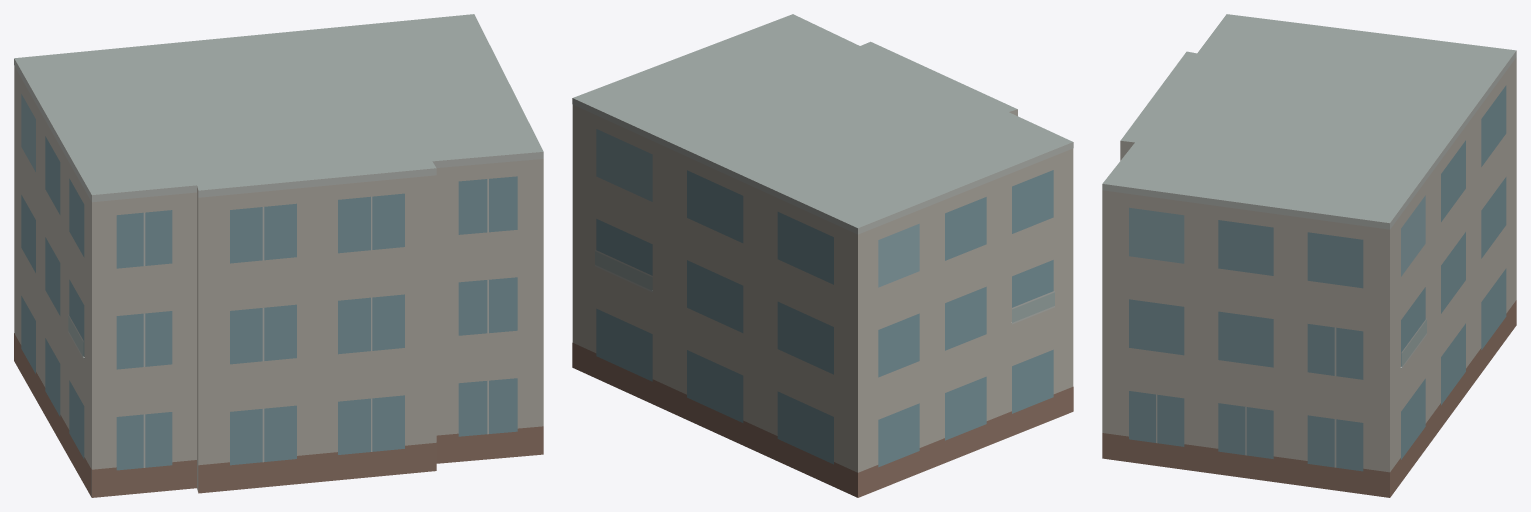
The model's file is survey-upis-32692232.glb.
3 renders of one model, left to right at view 1: azimuth 30°, elevation 25°; view 2: azimuth 150°, elevation 25°; view 3: azimuth 270°, elevation 25°, orthographic. The views are drawn at different scales.
Visible parts, largest first — view 1: survey-upis-32692232.tmp; view 2: survey-upis-32692232.tmp; view 3: survey-upis-32692232.tmp.
Boxes of the visible parts, <box> form: survey-upis-32692232.tmp: <box>14,14,543,497</box>; survey-upis-32692232.tmp: <box>572,14,1073,497</box>; survey-upis-32692232.tmp: <box>1102,14,1516,497</box>.
Size of the model in its own units: 17 by 10.4 by 14.23.
